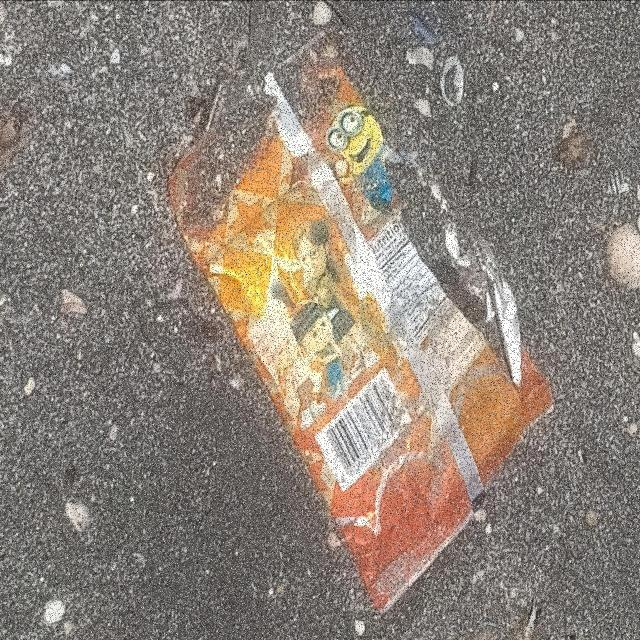plastic_waste: (167, 45, 559, 619)
